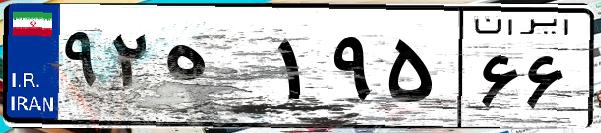1: (270, 28, 330, 110)
2: (110, 28, 158, 98)
5: (385, 28, 445, 110)
6: (475, 38, 525, 113), (525, 38, 570, 115)
9: (330, 28, 385, 110), (57, 26, 110, 100)
ه: (158, 20, 270, 120)
